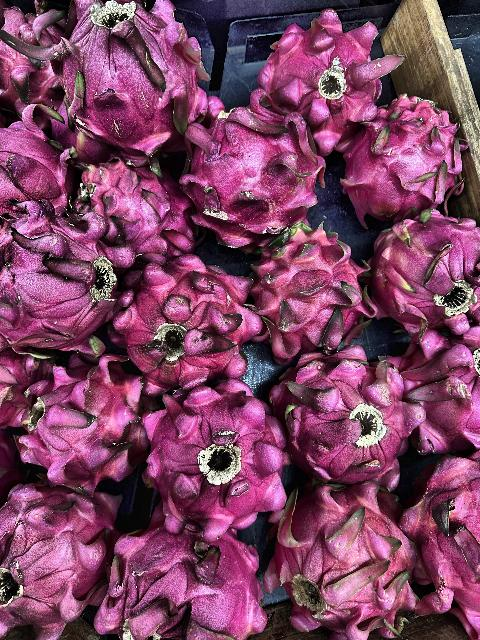buah-naga-matang: (257, 474, 435, 640), (40, 0, 216, 162), (127, 382, 289, 530), (102, 518, 282, 640), (280, 344, 429, 488), (171, 107, 335, 235), (0, 476, 120, 636), (1, 195, 124, 347), (254, 0, 382, 146), (14, 356, 146, 479), (50, 156, 195, 262), (116, 268, 258, 376), (362, 202, 480, 330), (248, 225, 374, 342), (398, 448, 480, 624), (358, 97, 466, 215), (400, 323, 480, 469)
